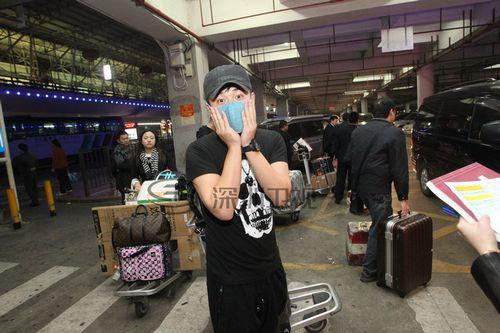NONE: (144, 134, 157, 148), (123, 136, 130, 147)
OK: (206, 87, 253, 134)
